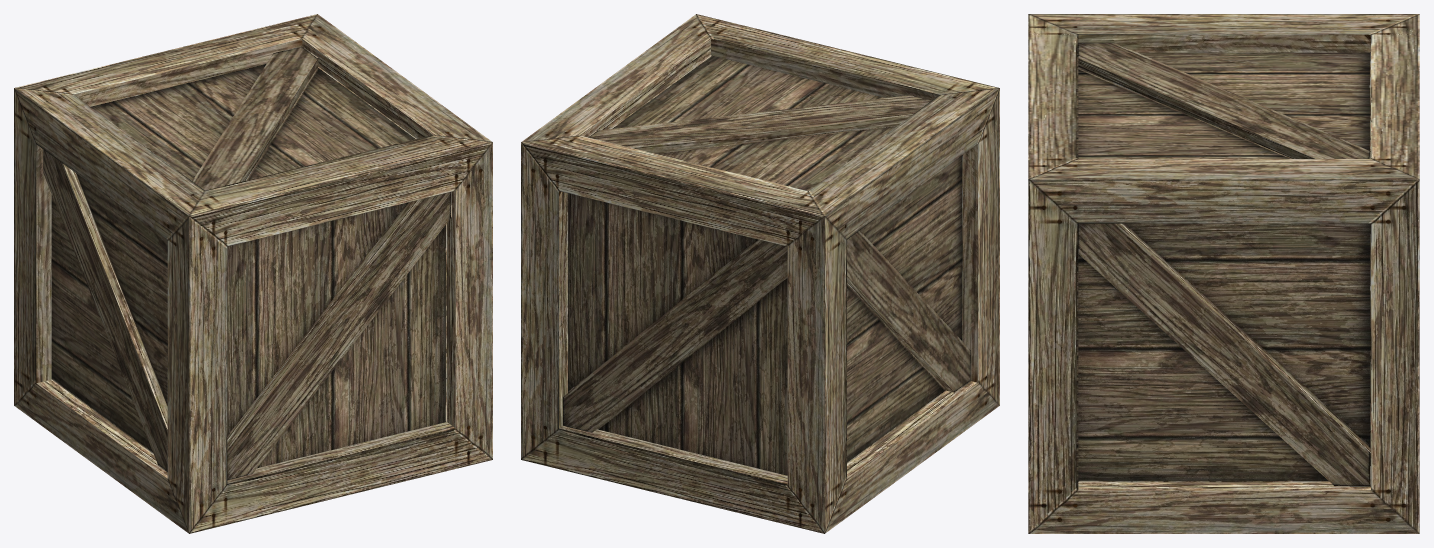
Rendered from caja 3.fbx.
3 renders of one model, left to right at view 1: azimuth 30°, elevation 25°; view 2: azimuth 150°, elevation 25°; view 3: azimuth 270°, elevation 25°, orthographic. The views are drawn at different scales.
Visible parts, largest first — view 1: pCube9; view 2: pCube9; view 3: pCube9.
Part boxes in pixels (x1,y1,x2,y2): pCube9: (14, 14, 492, 533); pCube9: (521, 14, 999, 533); pCube9: (1028, 14, 1419, 533).
Bounding box in the file's own units: 4 × 4 × 4.
Materials: 1 (1 with a texture image).
